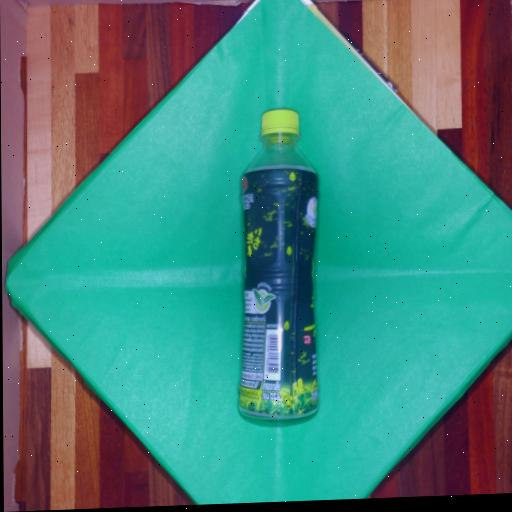bottle: (217, 95, 339, 446)
